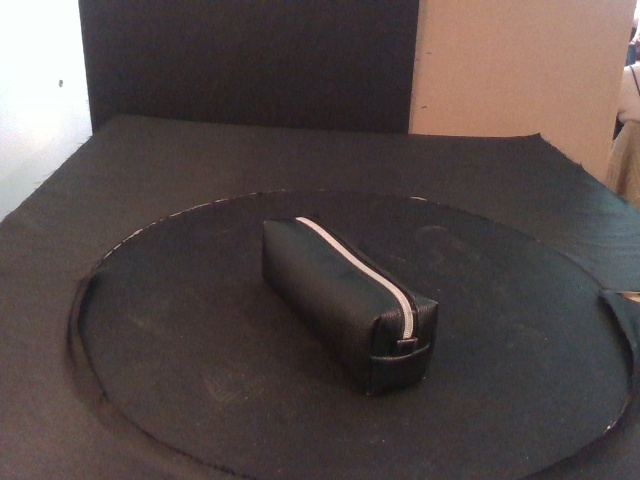pencil_case: (262, 211, 439, 394)
